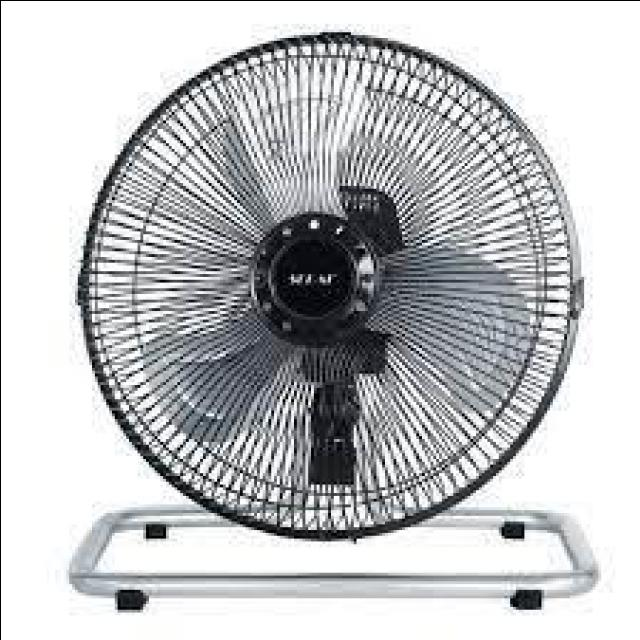fan: (56, 32, 606, 620)
